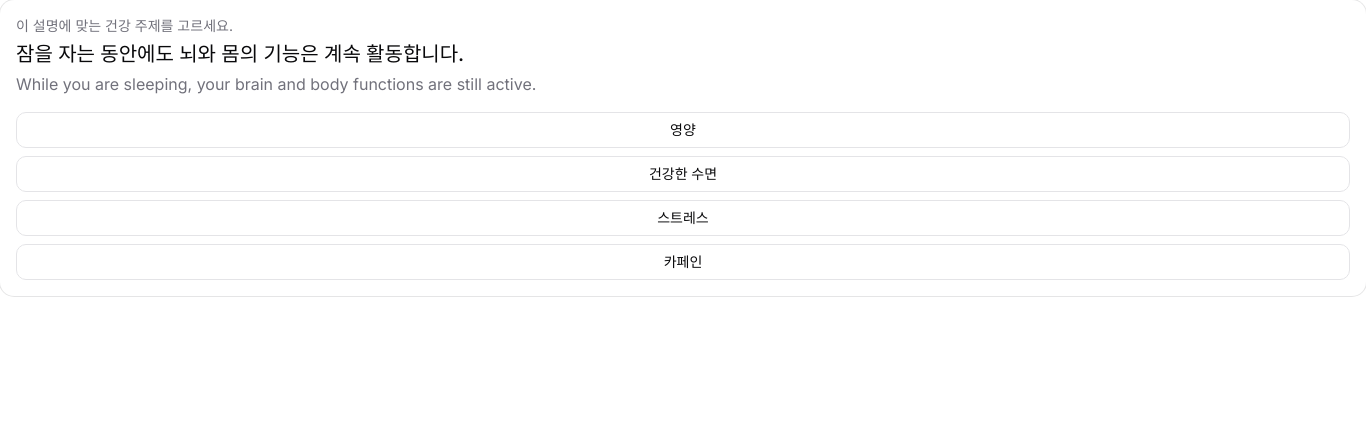
Test: 건강 퀴즈는 한국어 이름으로 보기를 보여주고 건강 기록으로 답을 보낸다
Click the button "건강한 수면" at (683, 174), box x1=16 y1=156 x2=1350 y2=192
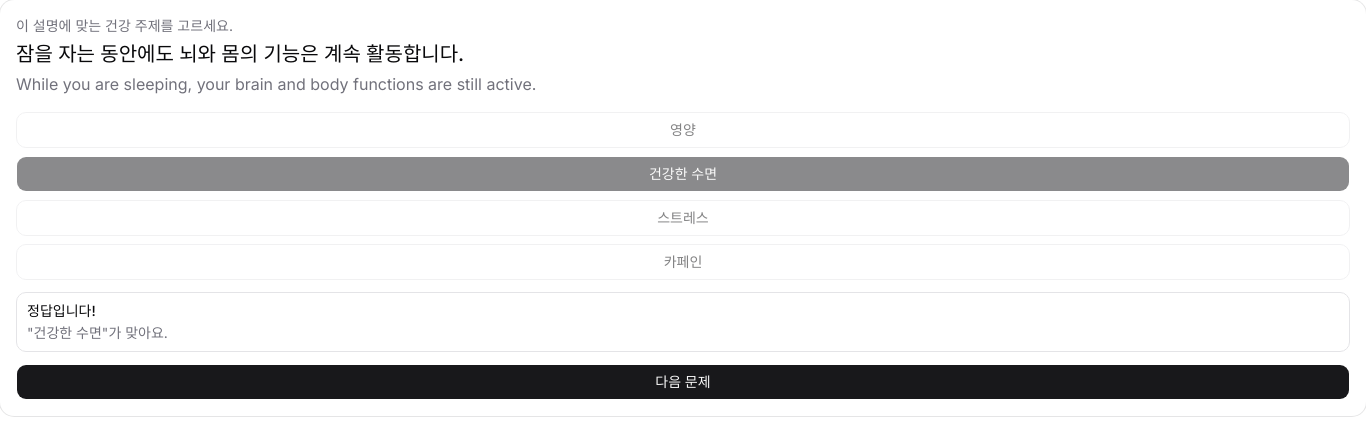
Expected: the text "정답입니다!" is shown, x1=27 y1=302 x2=96 y2=319
